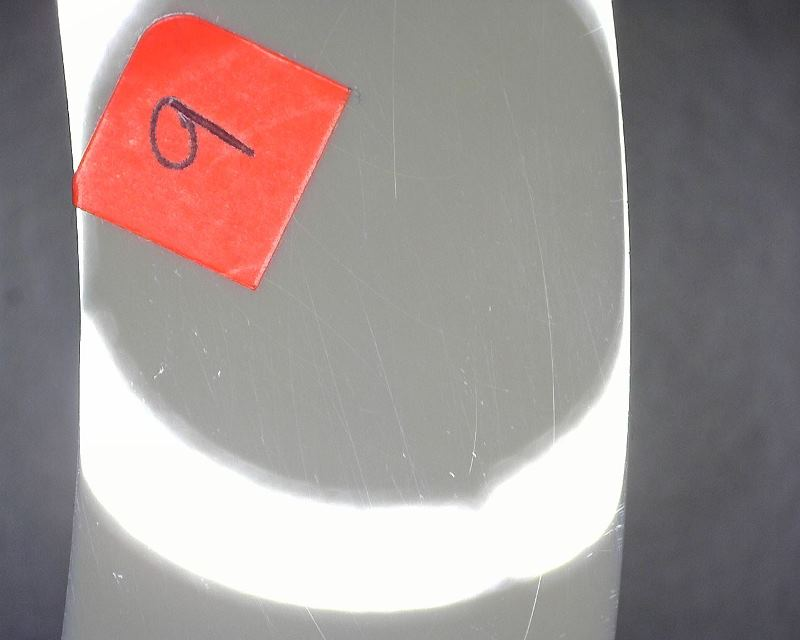scratch: (500, 84, 549, 271), (541, 279, 559, 436), (191, 328, 227, 380), (392, 7, 400, 201), (469, 367, 481, 477), (523, 583, 545, 635), (303, 607, 331, 640), (109, 571, 125, 584), (152, 367, 165, 382)
